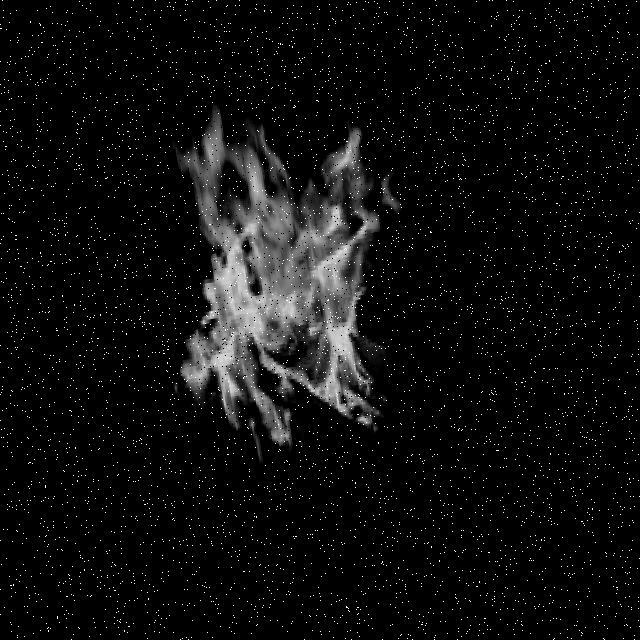Fire: (133, 79, 455, 482)
